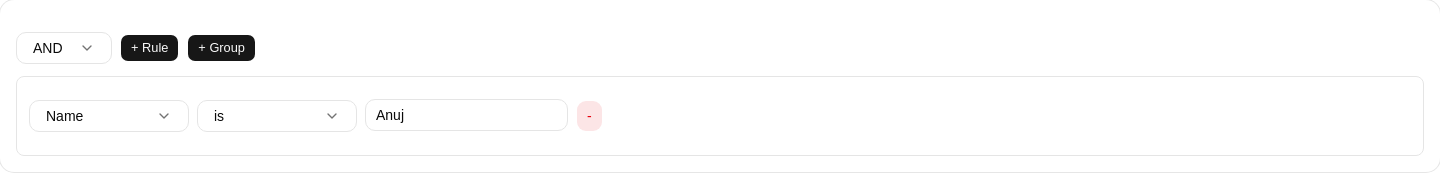
Group tests for behaviour › deletes a rule when rule delete clicked
The width and height of the screenshot is (1440, 190).
Click the button "-" at (589, 116), box [576,100,603,132]
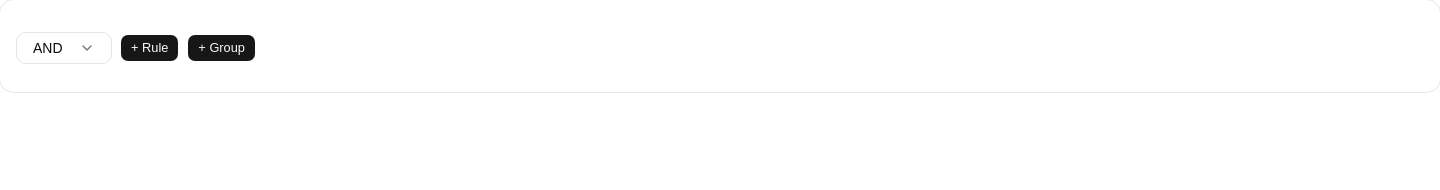
Check: the field with placeholder "Value" is gone
